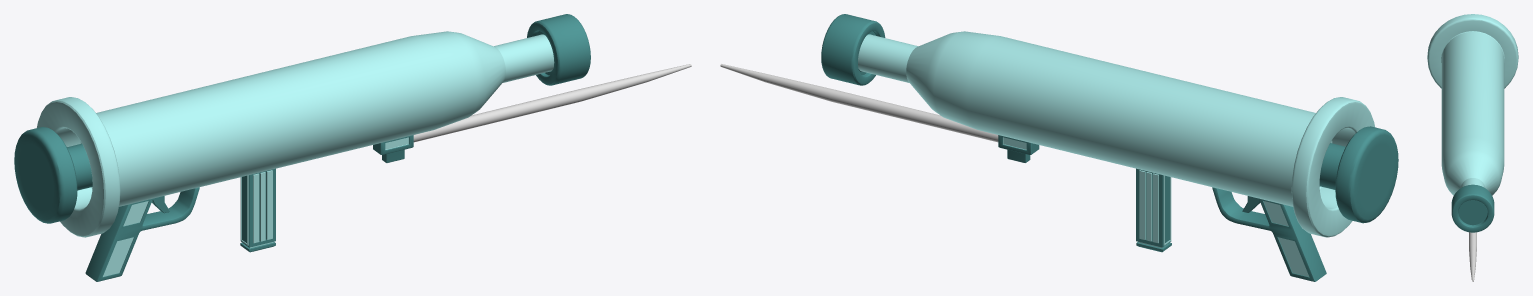
File: gun_.fbx
The picture shows the model from 3 angles, left to right: view 1: azimuth 30°, elevation 25°; view 2: azimuth 150°, elevation 25°; view 3: azimuth 270°, elevation 25°; orthographic projection. The views are drawn at different scales.
Parts seen in each view (by area): view 1: gun; view 2: gun; view 3: gun.
Boxes of the visible parts, bbox=[...] form: gun: bbox=[14, 14, 691, 281]; gun: bbox=[720, 14, 1398, 281]; gun: bbox=[1427, 14, 1518, 281].
Bounding box in the file's own units: 571 × 157 × 107.
